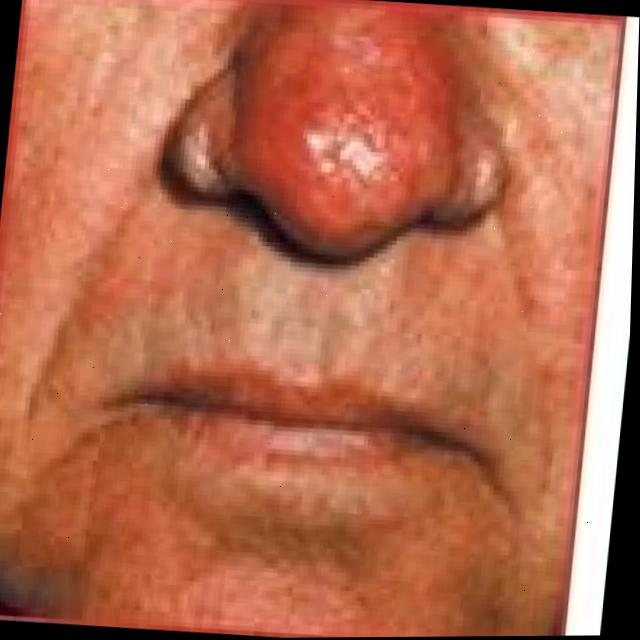Rosacea: (240, 7, 446, 210)
